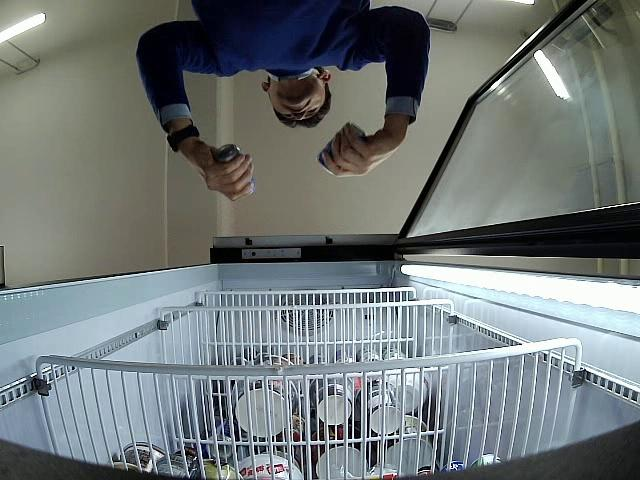00_hand: (321, 122, 408, 177), (197, 137, 253, 201)
